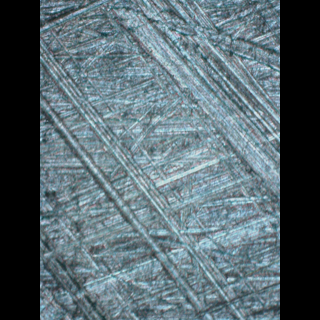d: (40, 1, 279, 319)
